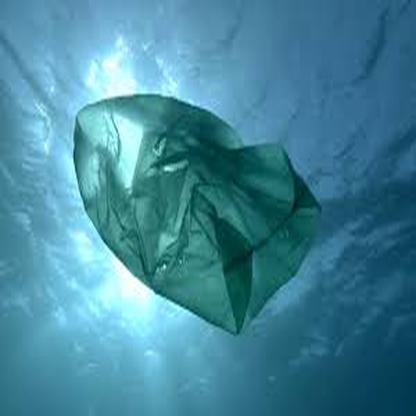plastic bag: (73, 95, 322, 335)
